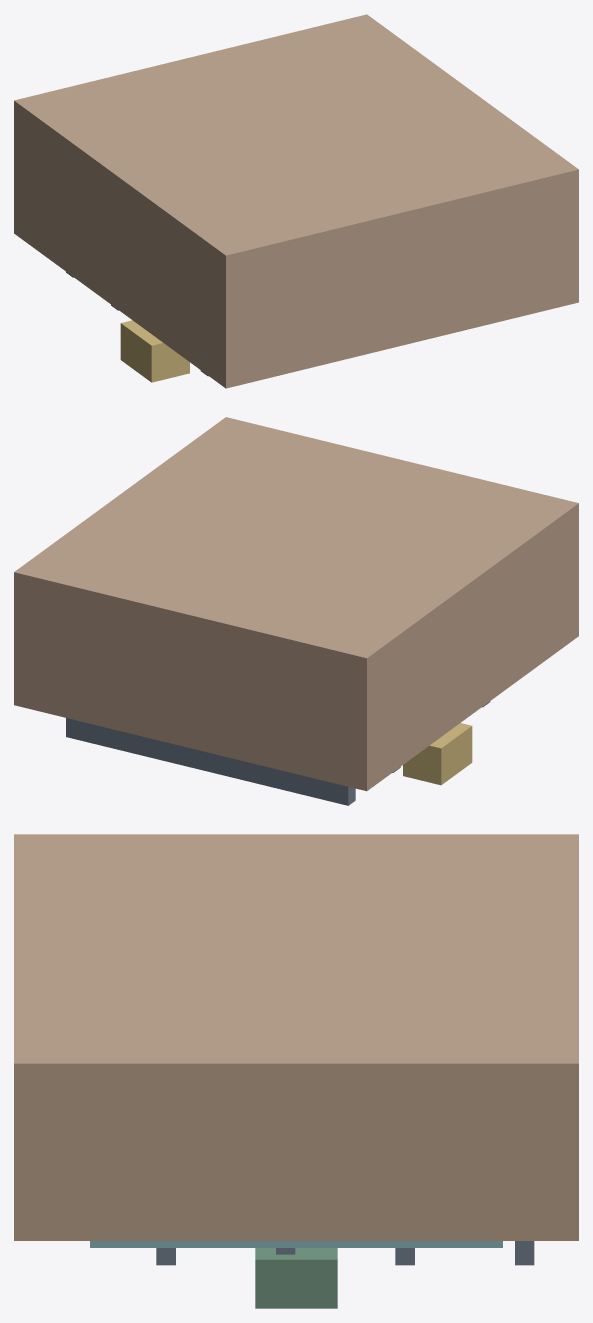
Rendered from ac_unit.glb.
3 views of the same model, one above another, from view 1: azimuth 30°, elevation 25°; view 2: azimuth 150°, elevation 25°; view 3: azimuth 270°, elevation 25° (orthographic). The views are drawn at different scales.
Visible parts, largest first — view 1: wood2, sun; view 2: wood2, metal, sun; view 3: wood2, green, glass, metal.
Part boxes in pixels (x1=…): wood2: x1=14, y1=14, x2=578, y2=388; sun: x1=120, y1=320, x2=189, y2=382; wood2: x1=14, y1=417, x2=578, y2=791; metal: x1=66, y1=701, x2=490, y2=805; sun: x1=403, y1=723, x2=472, y2=785; wood2: x1=14, y1=834, x2=578, y2=1240; green: x1=255, y1=1248, x2=337, y2=1308; glass: x1=90, y1=1241, x2=502, y2=1247; metal: x1=156, y1=1241, x2=534, y2=1265.
Bounding box in the file's own units: 2.5 × 1.33 × 2.6.
